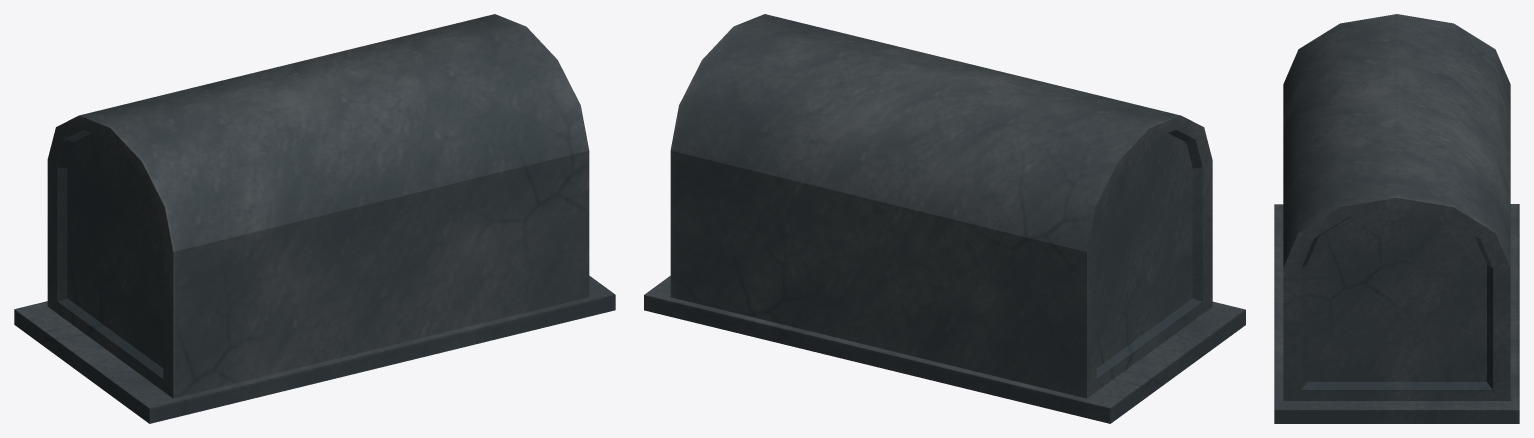
Rendered from RaisedGrave2_Model.fbx.
3 renders of one model, left to right at view 1: azimuth 30°, elevation 25°; view 2: azimuth 150°, elevation 25°; view 3: azimuth 270°, elevation 25°, orthographic. The views are drawn at different scales.
Parts seen in each view (by area): view 1: Cylinder039; view 2: Cylinder039; view 3: Cylinder039.
Part boxes in pixels (bbox=[...]): Cylinder039: bbox=[14, 14, 615, 423]; Cylinder039: bbox=[644, 14, 1245, 423]; Cylinder039: bbox=[1274, 14, 1519, 423].
Bounding box in the file's own units: 161 × 78.78 × 80.77.
